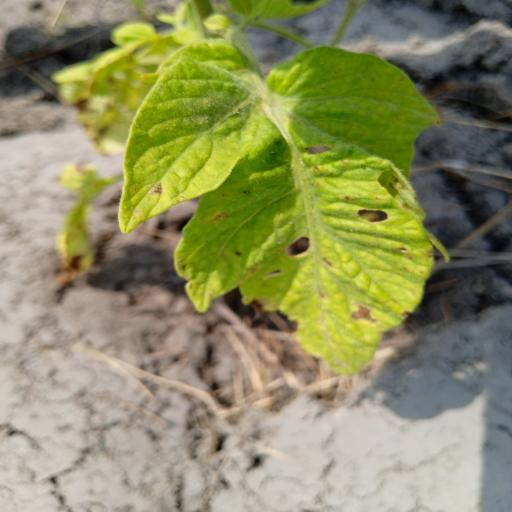Tomato_Brown_Spots: (102, 38, 442, 380)
